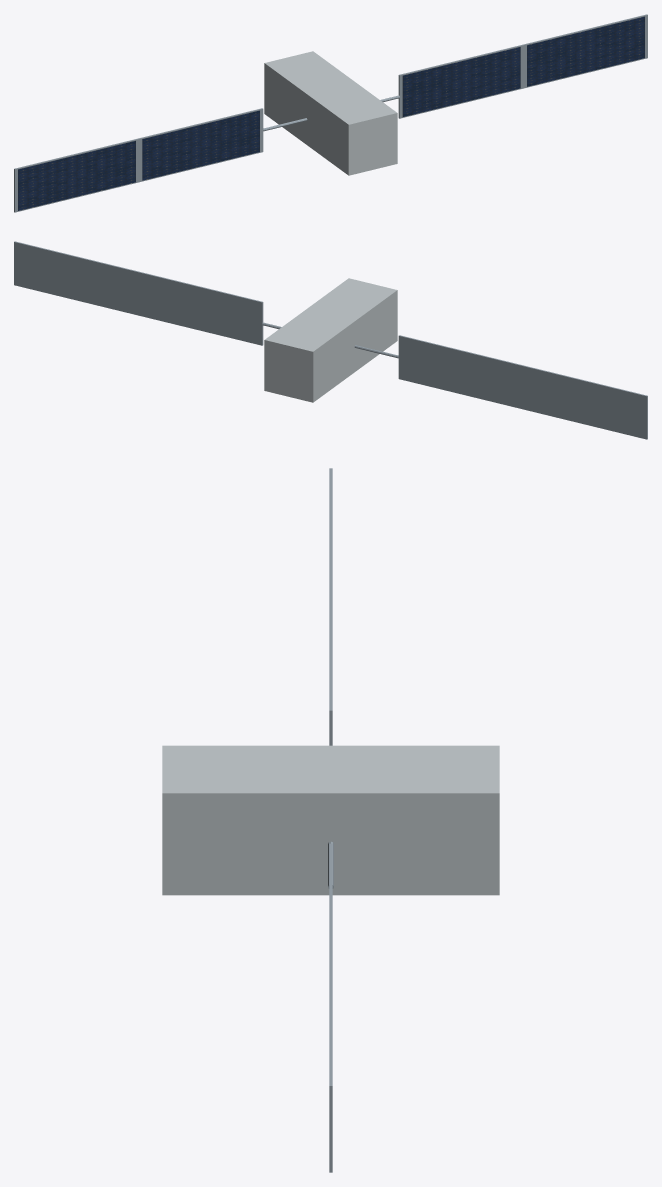
Rendered from ref-hs-601-28384.glb.
3 views of the same model, one above another, from view 1: azimuth 30°, elevation 25°; view 2: azimuth 150°, elevation 25°; view 3: azimuth 270°, elevation 25° (orthographic). The views are drawn at different scales.
Parts seen in each view (by area): view 1: Photovoltaic laminates (×4), Spacecraft body, Array frame (×4); view 2: Array frame (×4), Spacecraft body; view 3: Spacecraft body.
Boxes of the visible parts, x1,y1,x2,y2 form: Photovoltaic laminates (×4): (18,16,644,210); Spacecraft body: (264,51,397,175); Array frame (×4): (14,14,647,212); Array frame (×4): (14,241,647,439); Spacecraft body: (264,278,397,402); Spacecraft body: (162,745,499,895).
Bounding box in the file's own units: 26 × 2 × 6.
3 materials, 1 textured.
